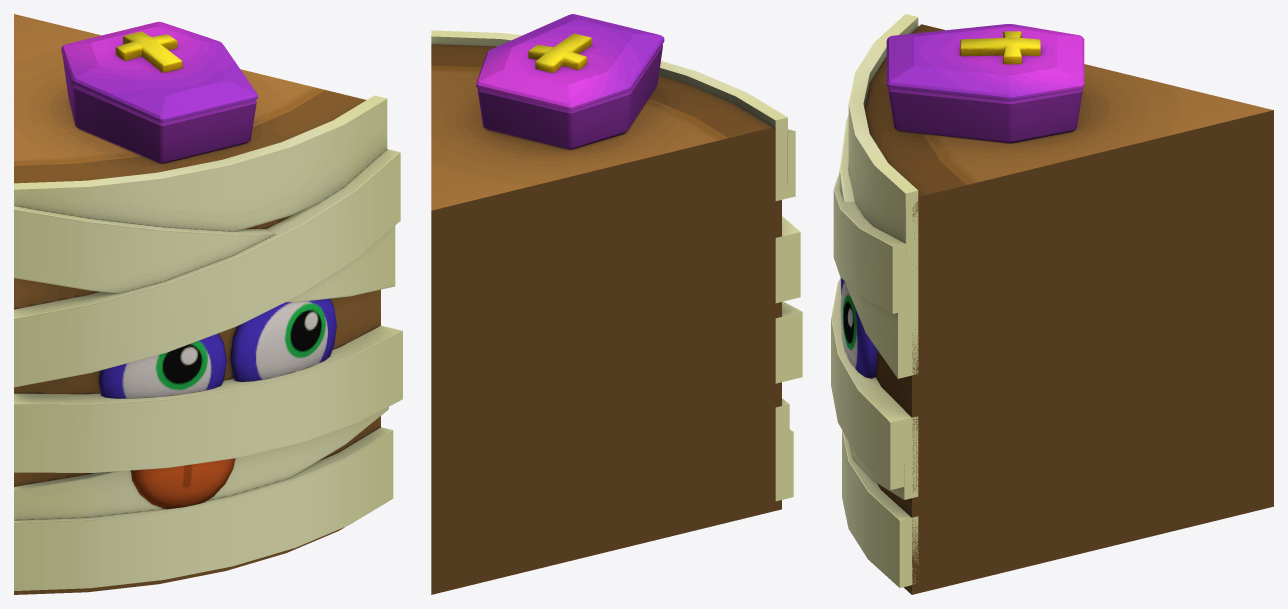
The model's file is cake_781.fbx.
The picture shows the model from 3 angles, left to right: view 1: azimuth 30°, elevation 25°; view 2: azimuth 150°, elevation 25°; view 3: azimuth 270°, elevation 25°; orthographic projection. The views are drawn at different scales.
Visible parts, largest first — view 1: cake_78; view 2: cake_78; view 3: cake_78.
Boxes of the visible parts, <box> form: cake_78: <box>14,14,402,594</box>; cake_78: <box>431,14,802,594</box>; cake_78: <box>831,14,1273,594</box>.
Bounding box in the file's own units: 5.39 × 6.25 × 5.39.
